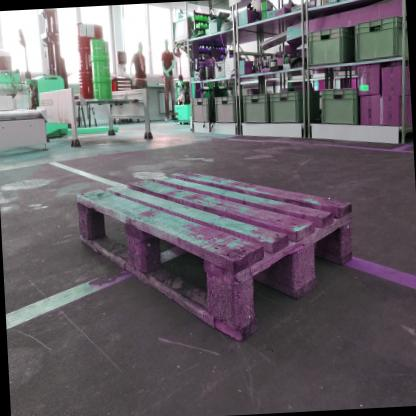BoxFace: (75, 164, 356, 348)
